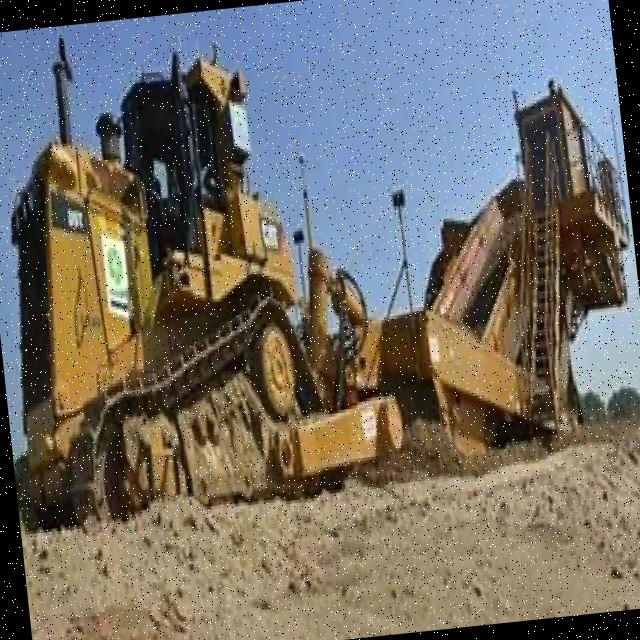Bulldozer: (0, 0, 421, 525)
